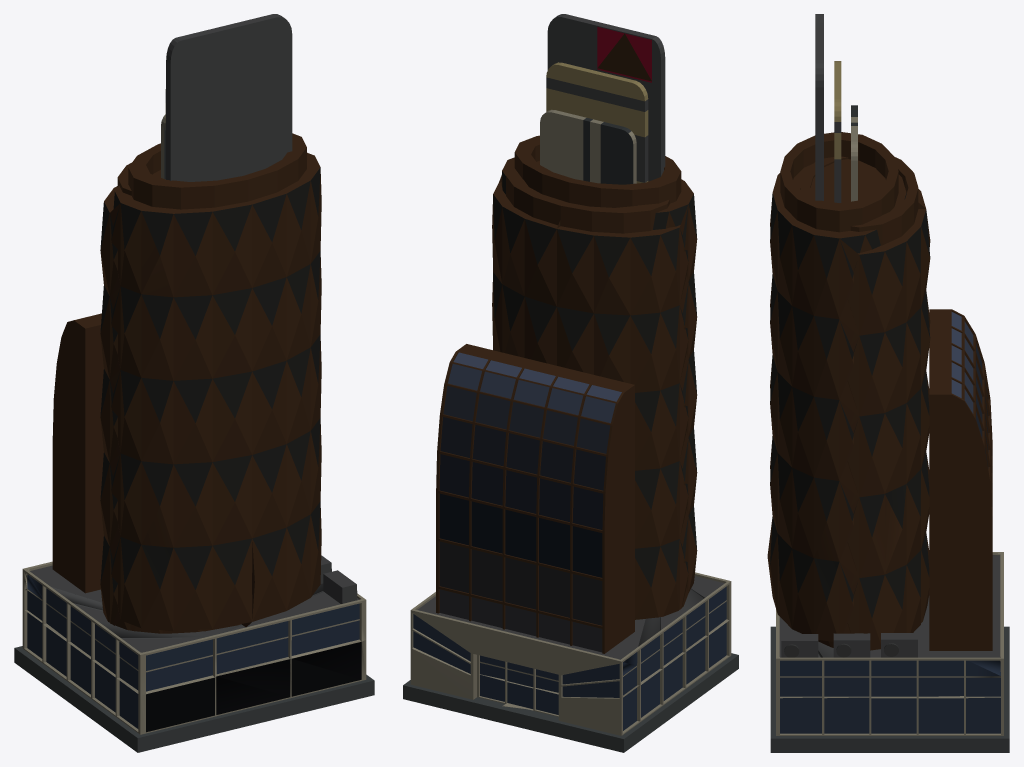
The picture shows the model from 3 angles, left to right: view 1: azimuth 30°, elevation 25°; view 2: azimuth 150°, elevation 25°; view 3: azimuth 270°, elevation 25°; orthographic projection. The views are drawn at different scales.
Parts seen in each view (by area): view 1: bank building; view 2: bank building; view 3: bank building.
Boxes of the visible parts, <box> form: bank building: <box>14,14,374,752</box>; bank building: <box>403,14,738,752</box>; bank building: <box>767,14,1009,752</box>.
Bounding box in the file's own units: 3 × 8.22 × 2.74.
Materials: 1 (1 with a texture image).
